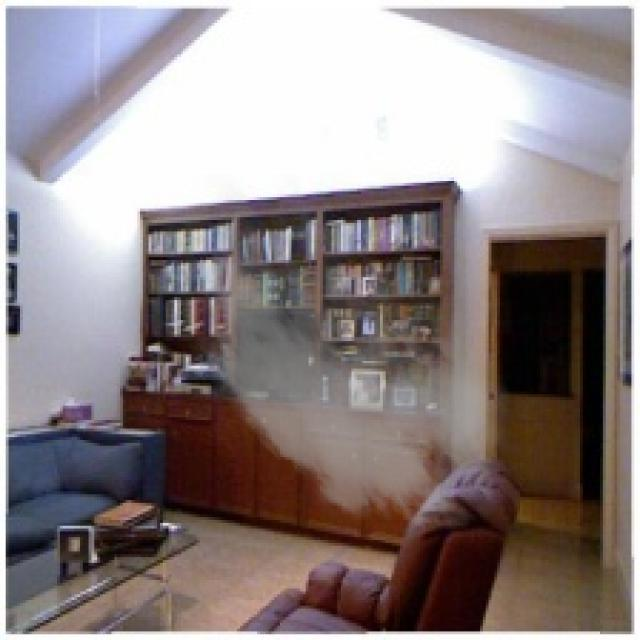Smoke: (162, 174, 528, 543)
